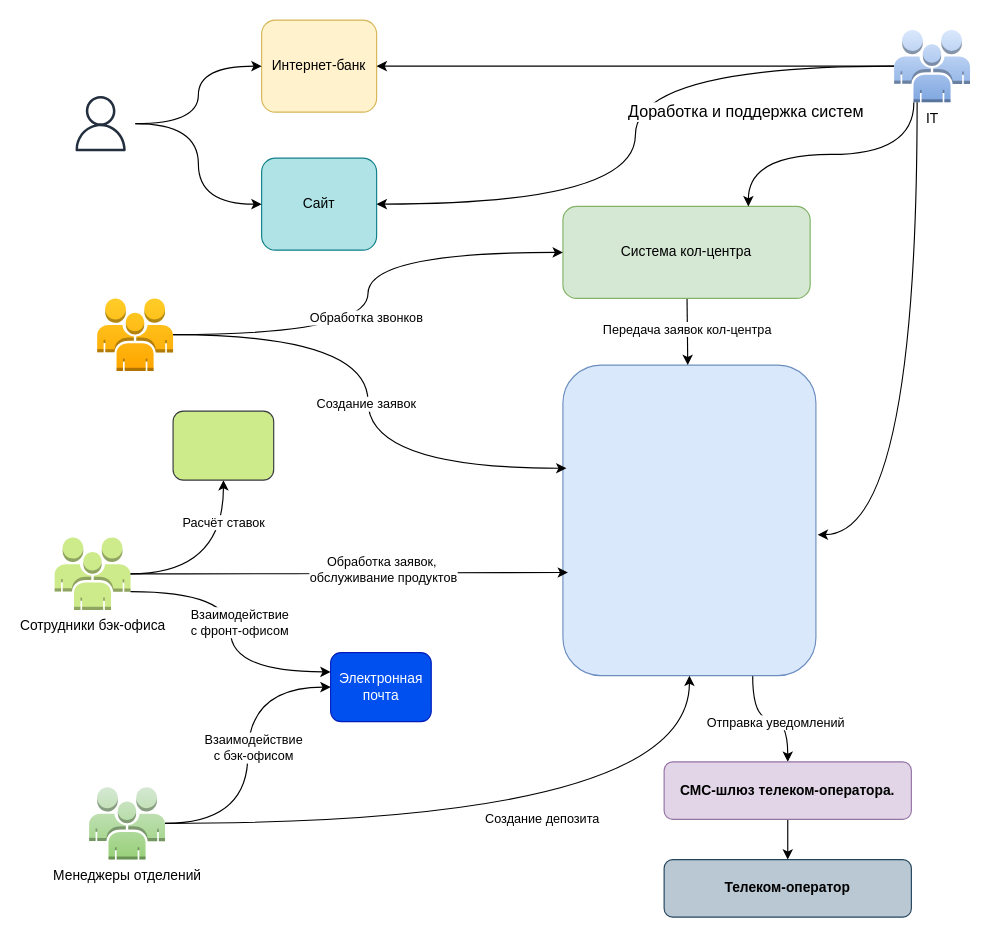
The diagram is 990 pixels wide and 937 high, and some of its shapes have lost their labels. The box of each missing label's shape, as (x1, y1, x2, y2) in pixels:
Excel: (172, 410, 274, 480)
АБС: (562, 364, 816, 676)
Клиент банка: (65, 88, 135, 158)
Операорты кол-центра: (96, 297, 173, 371)
